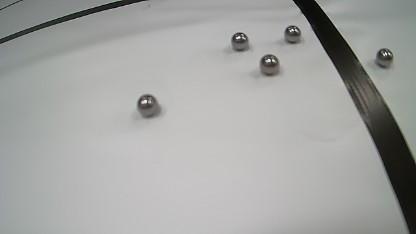ironball: (137, 94, 159, 117), (260, 54, 279, 75), (231, 32, 249, 50), (376, 48, 393, 67), (284, 25, 301, 43)
